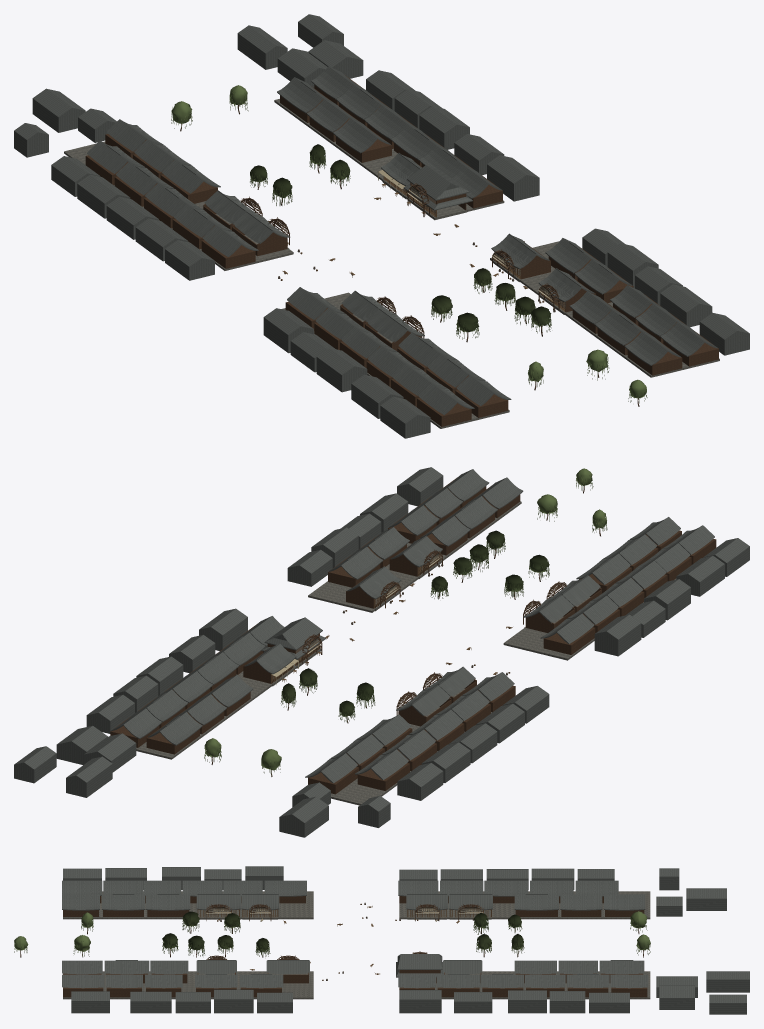
The model's file is scene_props.glb.
The picture shows the model from 3 angles, top to bottom: view 1: azimuth 30°, elevation 25°; view 2: azimuth 150°, elevation 25°; view 3: azimuth 270°, elevation 25°; orthographic projection. The views are drawn at different scales.
Visible parts, largest first — view 1: far_bldg_e, far_bldg_w, mid_roof_e, mid_roof_w, mid_frame_w, mid_frame_e, mid_base_e, shop_e0_0_lou_roof, mid_base_w, shop_w1_0_roof, shop_e1_1_roof, shop_w0_1_roof (+4 smaller); view 2: far_bldg_e, far_bldg_w, mid_roof_e, mid_roof_w, mid_frame_w, mid_frame_e, mid_base_e, mid_base_w, shop_e0_0_lou_roof, shop_w0_1_roof, shop_e1_1_roof, shop_w1_0_roof (+4 smaller); view 3: far_bldg_e, mid_roof_w, mid_roof_e, far_bldg_w, mid_base_w, mid_frame_e, mid_frame_w, mid_base_e, shop_e0_0_lou_roof, shop_w1_0_roof, shop_w0_1_roof, shop_e1_1_roof (+8 smaller).
Part boxes in pixels (box(x1,y1,x2,y2)): far_bldg_e: box(237, 14, 749, 355); far_bldg_w: box(14, 88, 430, 438); mid_roof_e: box(277, 66, 717, 365); mid_roof_w: box(87, 119, 511, 415); mid_frame_w: box(85, 134, 508, 426); mid_frame_e: box(280, 75, 718, 375); mid_base_e: box(274, 99, 719, 377); shop_e0_0_lou_roof: box(403, 165, 472, 210); mid_base_w: box(64, 141, 509, 428); shop_w1_0_roof: box(366, 308, 424, 342); shop_e1_1_roof: box(491, 233, 549, 269); shop_w0_1_roof: box(204, 190, 262, 223); far_bldg_e: box(14, 467, 443, 797); far_bldg_w: box(279, 538, 749, 837); mid_roof_e: box(111, 469, 523, 745); mid_roof_w: box(305, 517, 714, 783); mid_frame_w: box(308, 530, 716, 794); mid_frame_e: box(110, 477, 520, 754); mid_base_e: box(136, 501, 521, 759); mid_base_w: box(331, 578, 676, 805); shop_e0_0_lou_roof: box(261, 617, 325, 659); shop_w0_1_roof: box(396, 685, 450, 716); shop_e1_1_roof: box(347, 566, 401, 599); shop_w1_0_roof: box(546, 575, 600, 606); far_bldg_e: box(71, 971, 749, 1014); mid_roof_w: box(62, 880, 645, 910); mid_roof_e: box(62, 960, 648, 988); far_bldg_w: box(63, 866, 726, 916); mid_base_w: box(63, 891, 650, 919); mid_frame_e: box(63, 973, 647, 997); mid_frame_w: box(63, 896, 644, 916); mid_base_e: box(63, 971, 650, 999); shop_e0_0_lou_roof: box(396, 954, 443, 977); shop_w1_0_roof: box(196, 894, 240, 910); shop_w0_1_roof: box(448, 894, 492, 910); shop_e1_1_roof: box(266, 960, 309, 974).
Bounding box in the file's own units: 104 × 9.32 × 241.
Materials: 14 (12 with a texture image).
